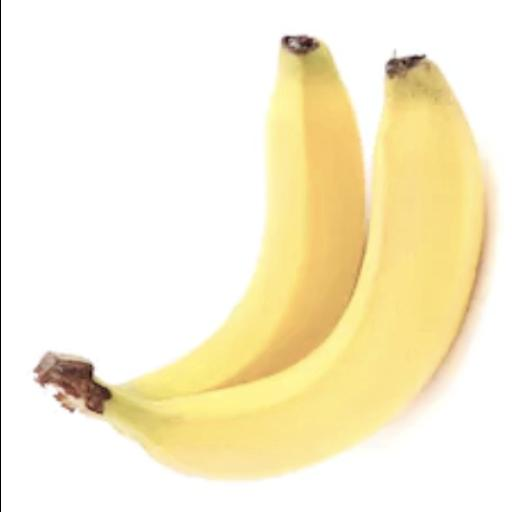banana: (36, 55, 483, 478), (122, 35, 364, 398)
